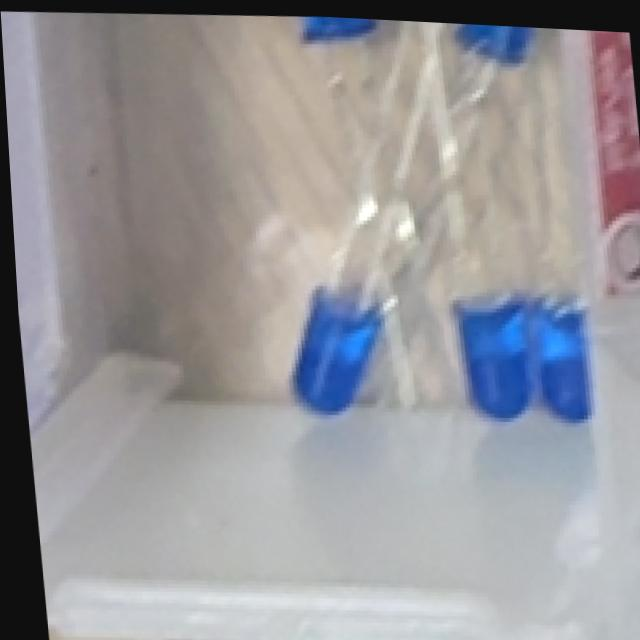BLUE_LED: (254, 13, 487, 432), (324, 17, 567, 410), (301, 16, 449, 432), (423, 22, 542, 428), (504, 26, 593, 437)
